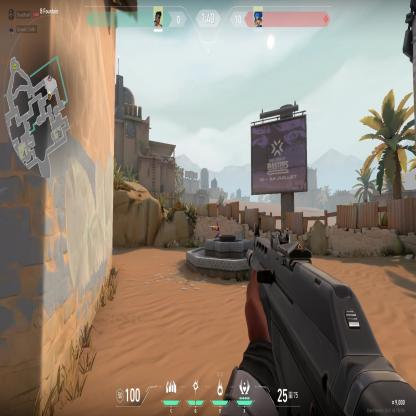enemy: (211, 219, 220, 238)
